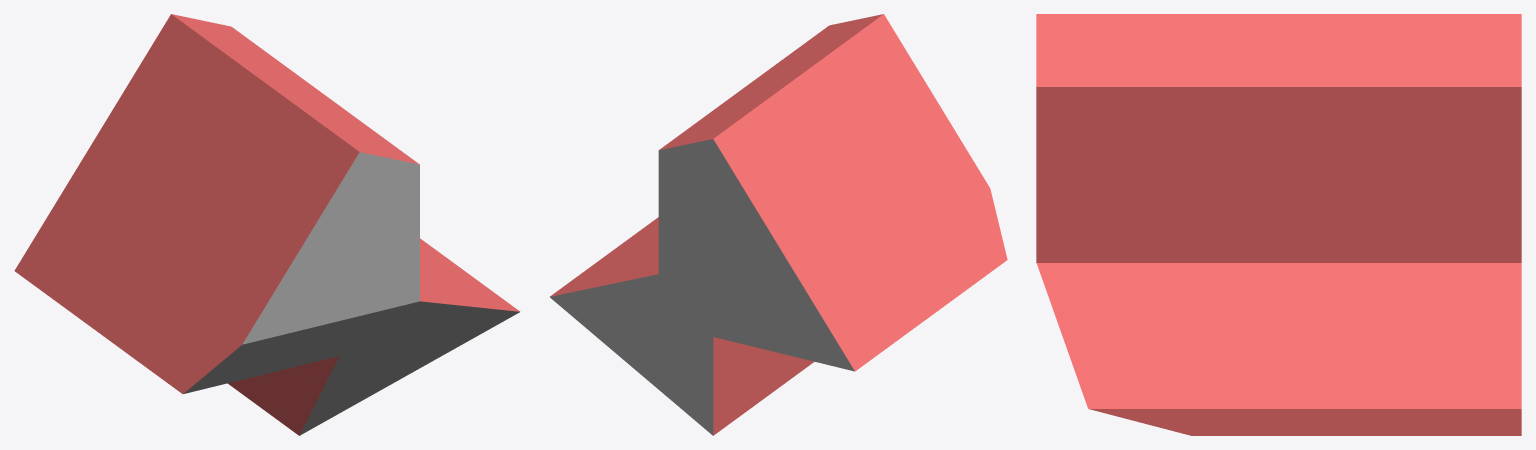
3 renders of one model, left to right at view 1: azimuth 30°, elevation 25°; view 2: azimuth 150°, elevation 25°; view 3: azimuth 270°, elevation 25°, orthographic. The views are drawn at different scales.
Parts seen in each view (by area): view 1: 32-6.SLDPRT; view 2: 32-6.SLDPRT; view 3: 32-6.SLDPRT.
Part boxes in pixels (x1=…): 32-6.SLDPRT: x1=14, y1=14, x2=520, y2=435; 32-6.SLDPRT: x1=550, y1=14, x2=1007, y2=435; 32-6.SLDPRT: x1=1036, y1=14, x2=1521, y2=435.
Size of the model in its own units: 0.0259 by 0.024 by 0.025.
